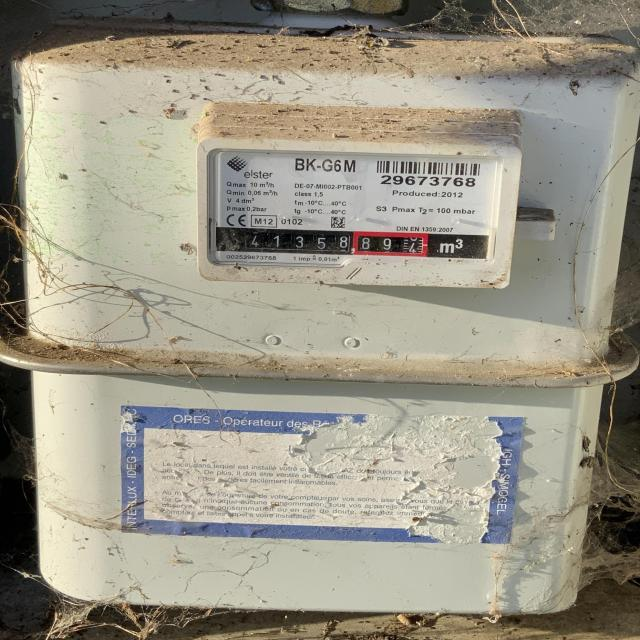gaz_meter: (214, 144, 494, 260)
indication: (227, 228, 433, 262)
